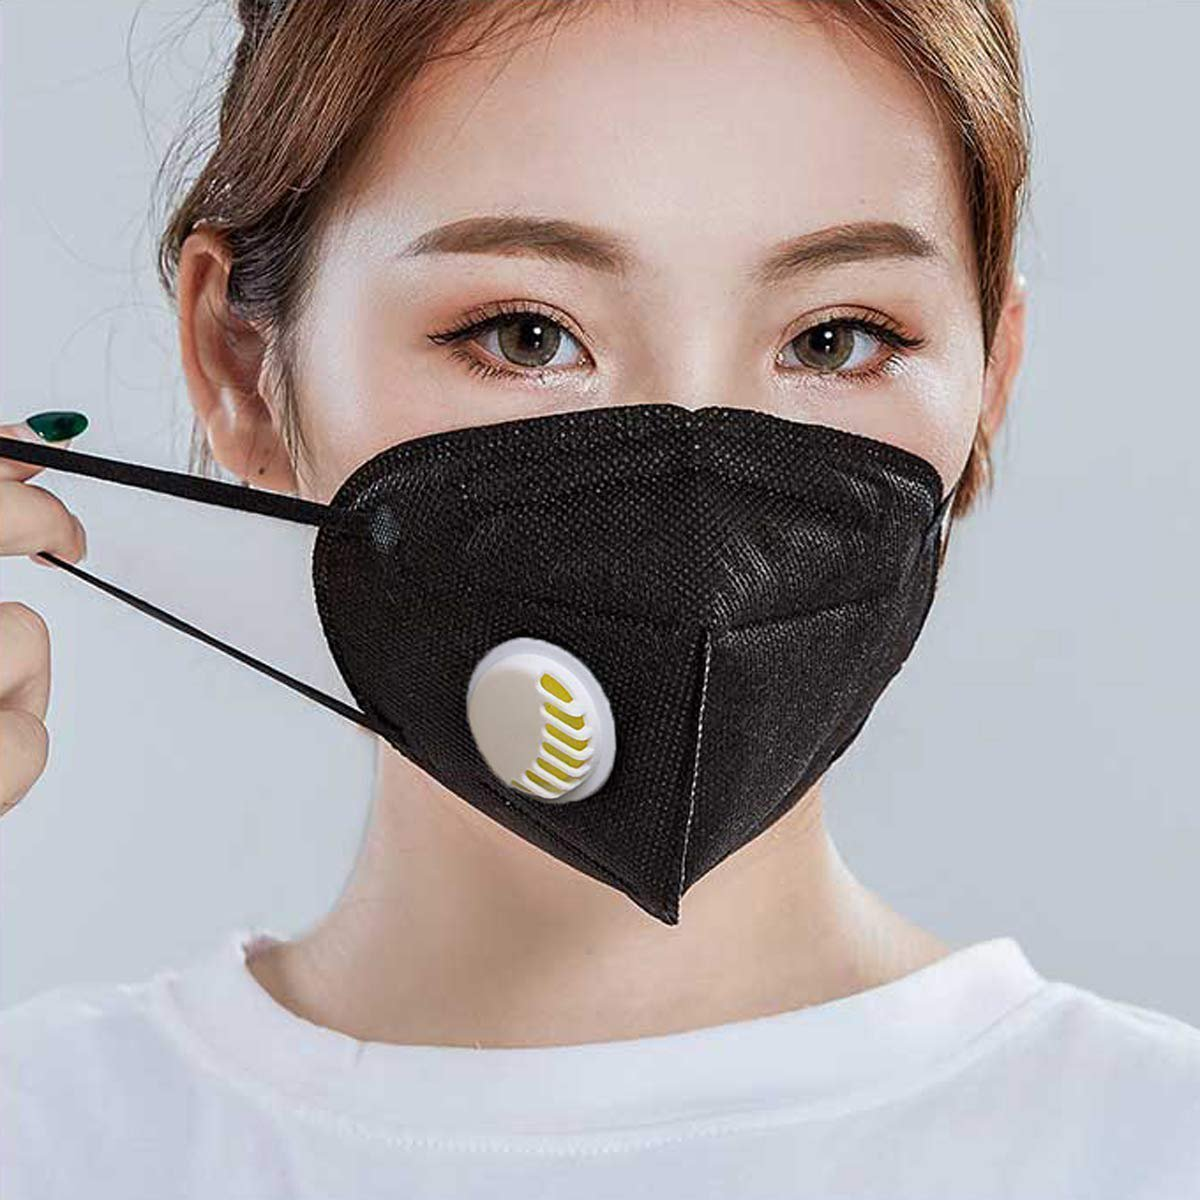mask: (101, 15, 1056, 927)
